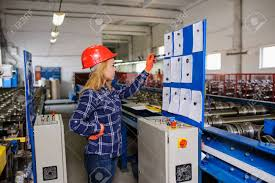Person_wearing_helmet: (77, 40, 115, 71)
